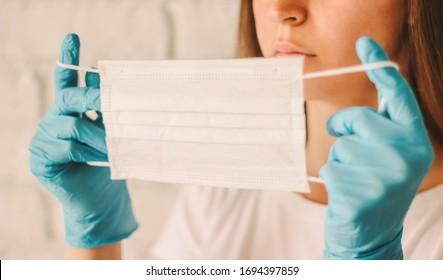gloves: (319, 35, 434, 260), (28, 32, 138, 248)
